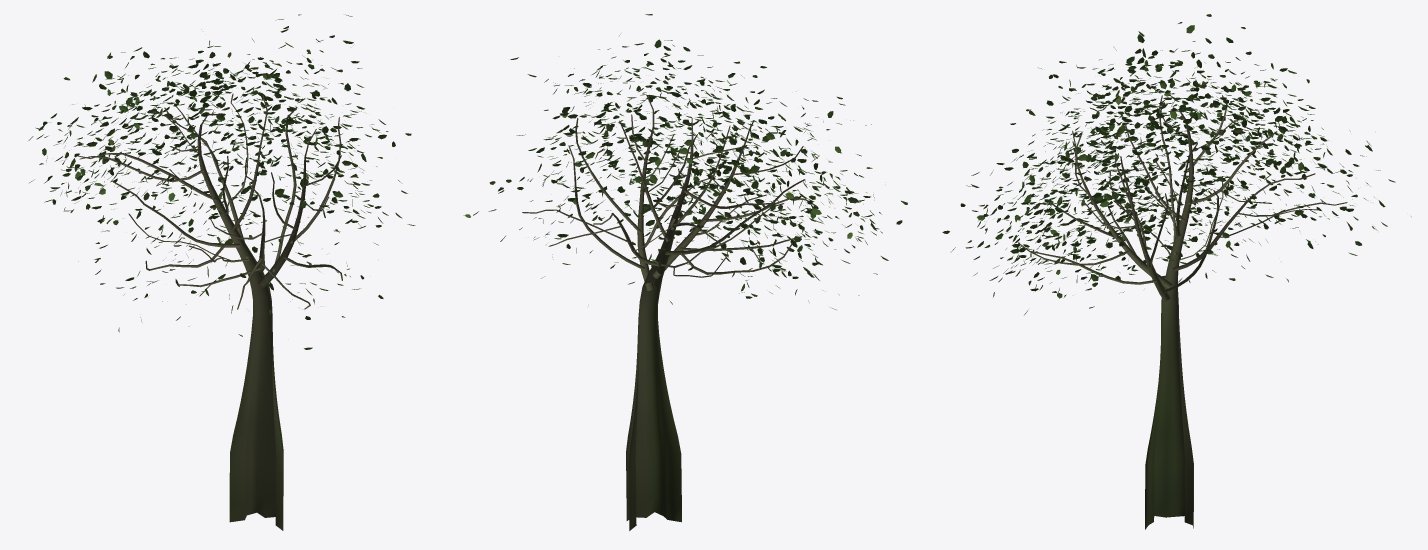
Rendered from SM_Tree_garden_tree_1.glb.
3 views of the same model, side by side, from view 1: azimuth 30°, elevation 25°; view 2: azimuth 150°, elevation 25°; view 3: azimuth 270°, elevation 25° (orthographic). The views are drawn at different scales.
Visible parts, largest first — view 1: SM_Tree_garden_tree_1; view 2: SM_Tree_garden_tree_1; view 3: SM_Tree_garden_tree_1.
Part boxes in pixels (box(x1,y1,x2,y2)): SM_Tree_garden_tree_1: box(28, 14, 415, 530); SM_Tree_garden_tree_1: box(463, 14, 907, 530); SM_Tree_garden_tree_1: box(942, 14, 1411, 529).
Bounding box in the file's own units: 3.91 × 5.13 × 4.71.
